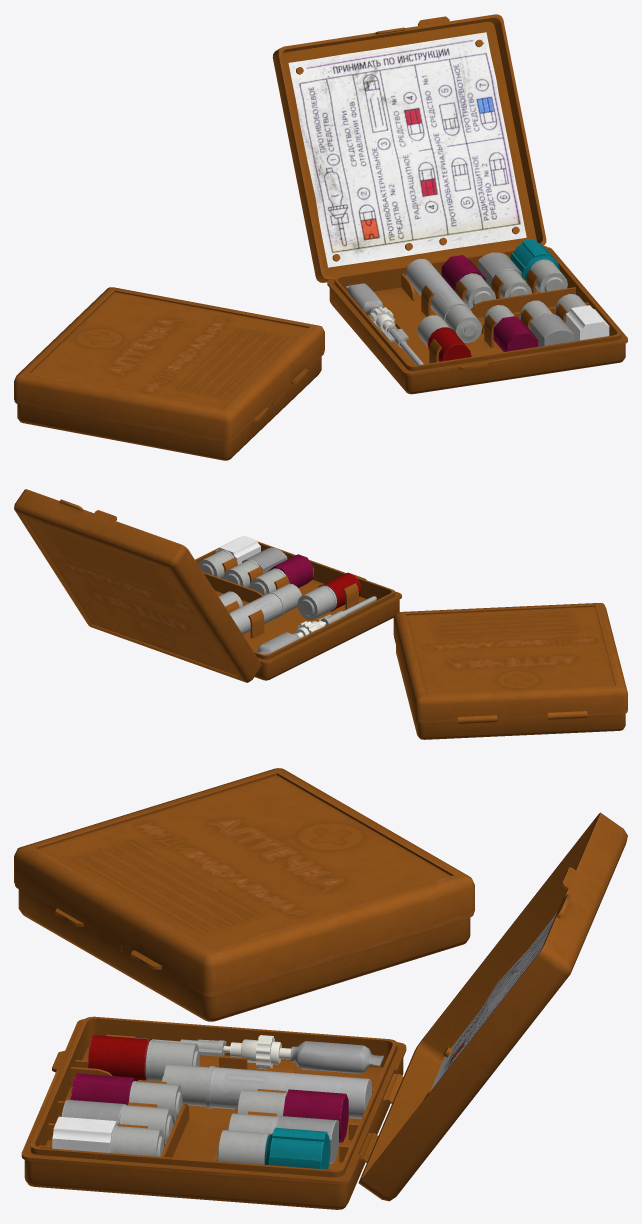
The model's file is ai-2_medkit.glb.
The picture shows the model from 3 angles, top to bottom: view 1: azimuth 30°, elevation 25°; view 2: azimuth 150°, elevation 25°; view 3: azimuth 270°, elevation 25°; orthographic projection. The views are drawn at different scales.
Parts seen in each view (by area): view 1: Plane.001; view 2: Plane.001; view 3: Plane.001.
Part boxes in pixels (x1,y1,x2,y2): Plane.001: [14, 14, 627, 460]; Plane.001: [14, 489, 627, 739]; Plane.001: [14, 768, 627, 1209].
Size of the model in its own units: 1.48 by 0.497 by 0.9598.
4 materials, 4 textured.
